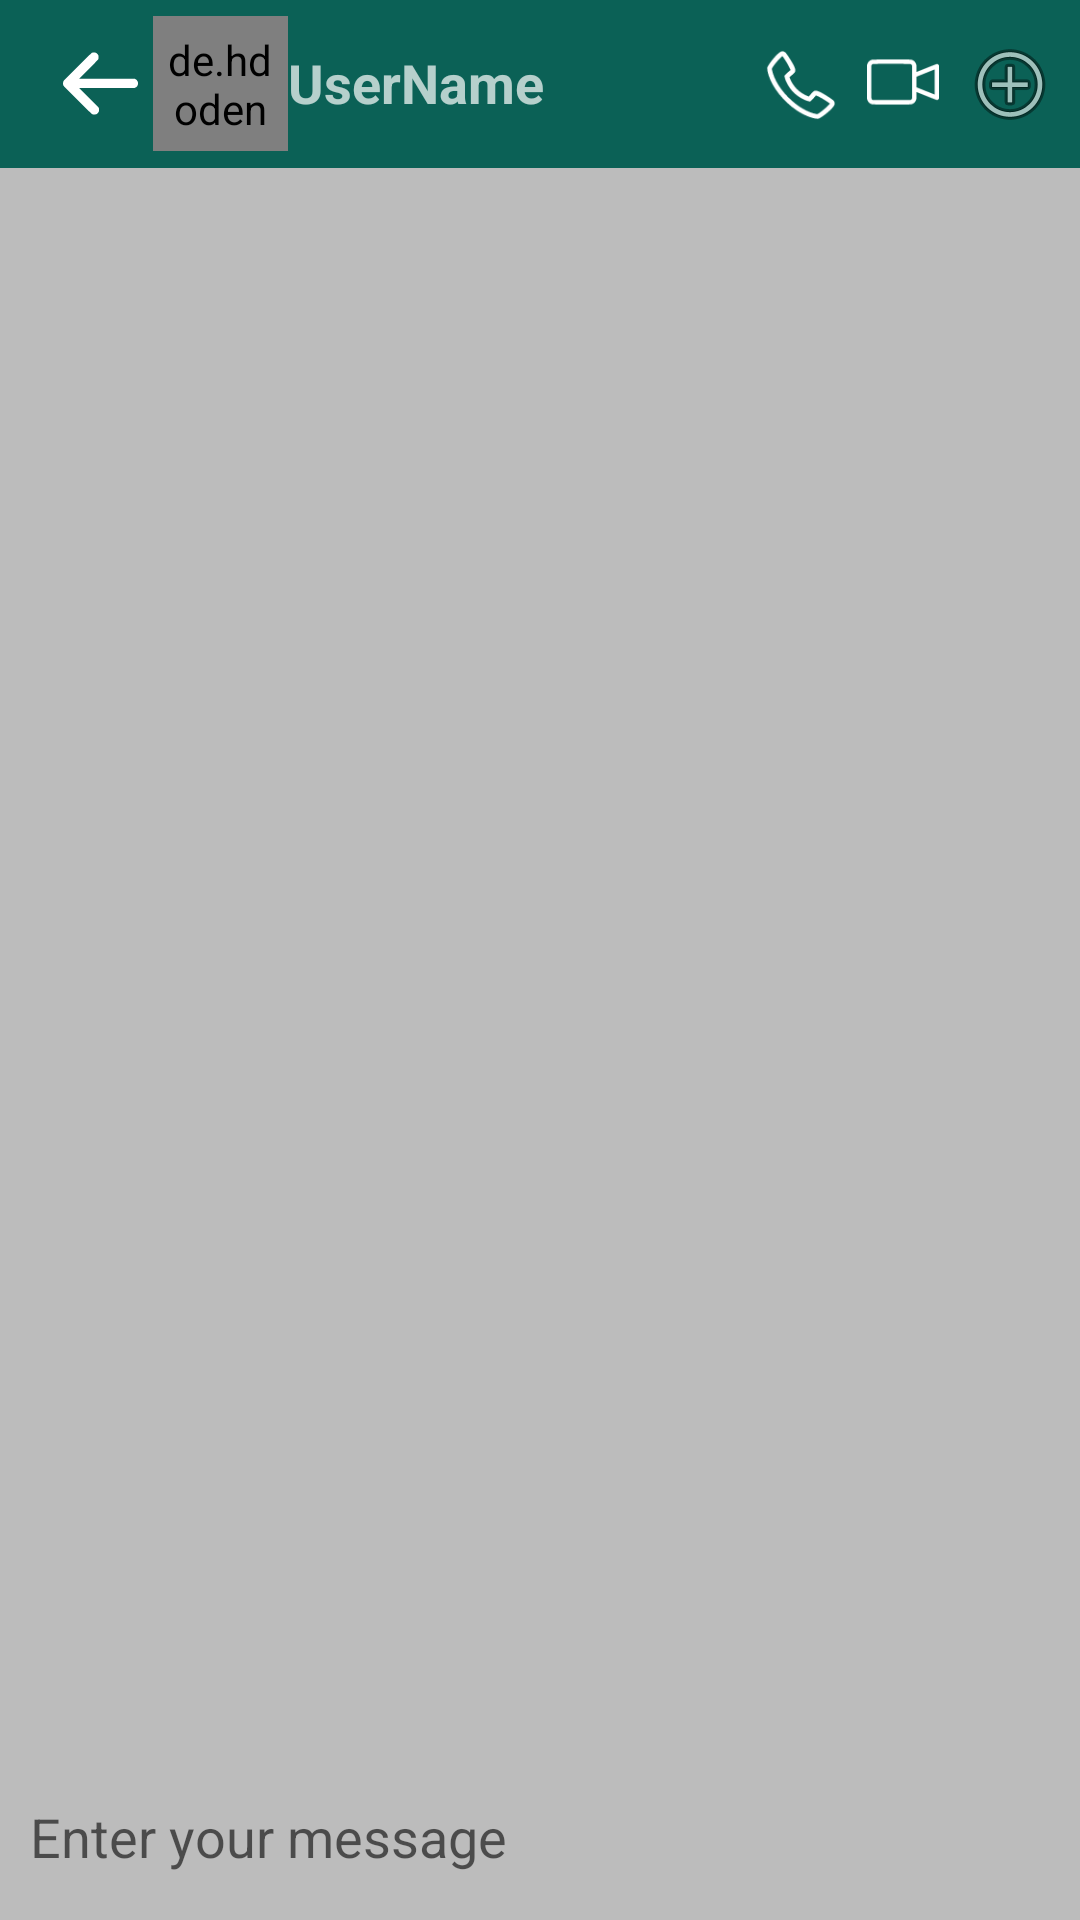

Icons on this 1080×1920 Android screen, each with its box as (x1=x1, y1=y1, x2=x2, y2=y2):
add: (x1=975, y1=49, x2=1045, y2=120)
arrow left: (x1=63, y1=52, x2=138, y2=115)
phone call: (x1=767, y1=51, x2=835, y2=119)
video camera: (x1=867, y1=59, x2=939, y2=105)
